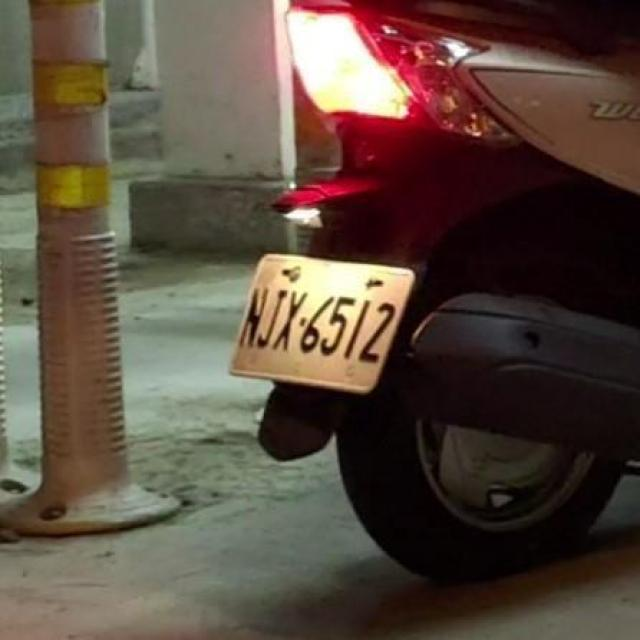W: (225, 228, 420, 405)
